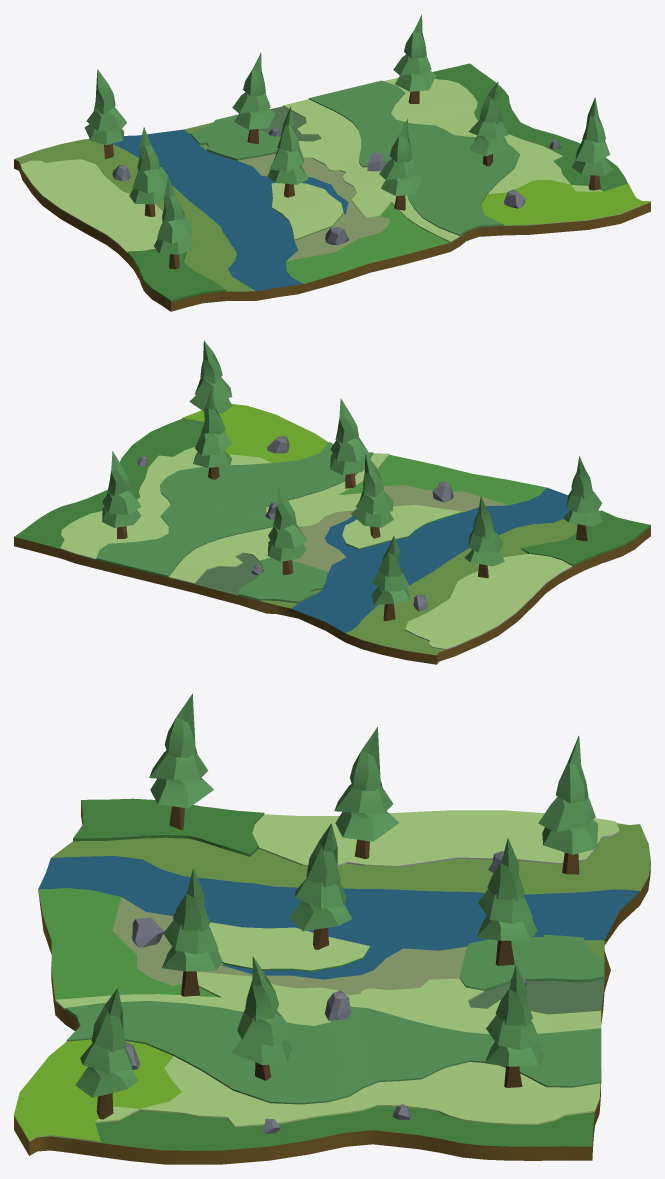
The model's file is boardd.fbx.
3 renders of one model, top to bottom at view 1: azimuth 30°, elevation 25°; view 2: azimuth 150°, elevation 25°; view 3: azimuth 270°, elevation 25°, orthographic. The views are drawn at different scales.
Visible parts, largest first — view 1: pCube21, pCylinder4 (×9), pCylinder3 (×9), pCylinder5 (×9); view 2: pCube21, pCylinder4 (×9), pCylinder3 (×9), pCylinder5 (×7); view 3: pCube21, pCylinder3 (×9), pCylinder5 (×9), pCylinder4 (×9), pSphere17.
Boxes of the visible parts, <box> form: pCube21: <box>14,63,650,311</box>; pCylinder4 (×9): <box>86,54,610,243</box>; pCylinder3 (×9): <box>93,14,605,222</box>; pCylinder5 (×9): <box>84,70,613,254</box>; pCube21: <box>14,404,650,664</box>; pCylinder4 (×9): <box>102,377,601,591</box>; pCylinder3 (×9): <box>107,340,593,577</box>; pCylinder5 (×7): <box>102,451,504,604</box>; pCube21: <box>14,798,650,1164</box>; pCylinder3 (×9): <box>91,694,588,1051</box>; pCylinder5 (×9): <box>75,778,598,1097</box>; pCylinder4 (×9): <box>80,748,595,1073</box>; pSphere17: <box>132,917,164,947</box>.
Bounding box in the file's own units: 52.93 × 10.63 × 40.82.
